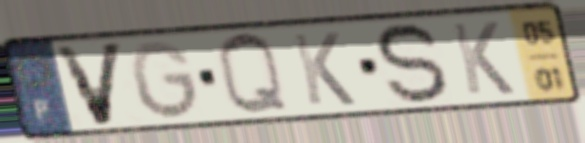G: (127, 38, 204, 123)
K: (288, 30, 359, 108), (448, 19, 518, 97)
Q: (213, 30, 293, 119)
S: (372, 19, 452, 108)
V: (49, 39, 129, 129)
